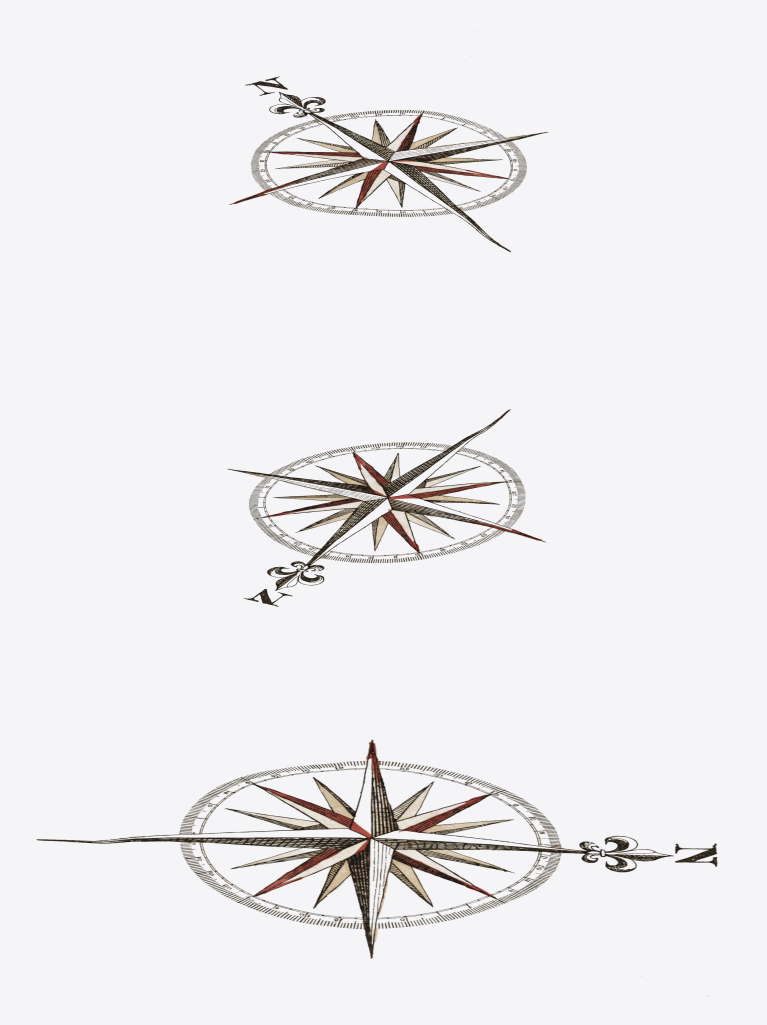
File: compass.glb
3 renders of one model, top to bottom at view 1: azimuth 30°, elevation 25°; view 2: azimuth 150°, elevation 25°; view 3: azimuth 270°, elevation 25°, orthographic. The views are drawn at different scales.
Parts seen in each view (by area): view 1: Compass; view 2: Compass; view 3: Compass.
Boxes of the visible parts, x1=… form: Compass: x1=229, y1=31, x2=548, y2=252; Compass: x1=52, y1=409, x2=584, y2=630; Compass: x1=36, y1=733, x2=730, y2=996.
Bounding box in the file's own units: 190 × 7.78 × 190.
1 material, 1 textured.
